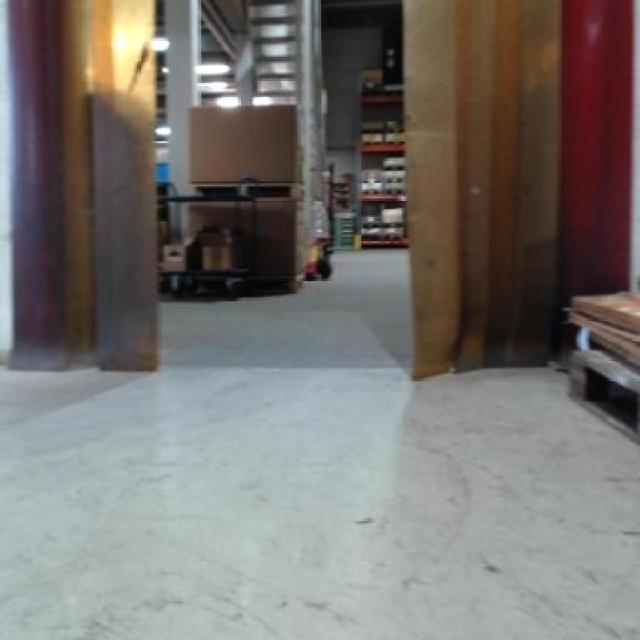floor: (0, 248, 637, 637)
pallets: (566, 291, 637, 438)
